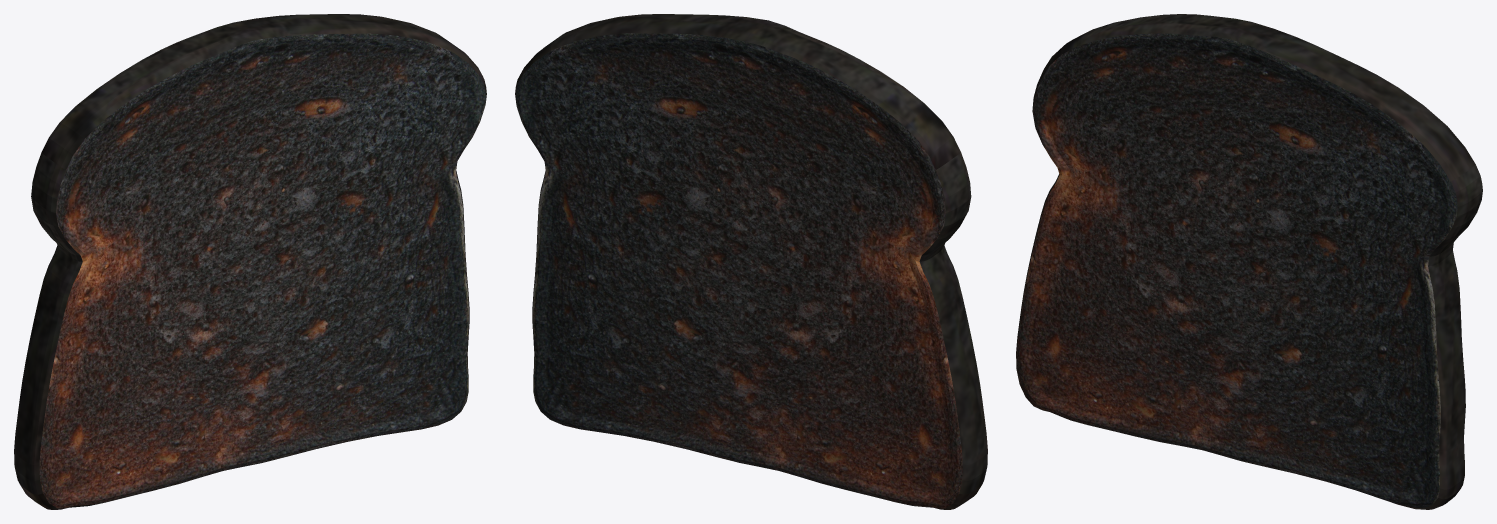
File: BurntToast.fbx
The picture shows the model from 3 angles, left to right: view 1: azimuth 30°, elevation 25°; view 2: azimuth 150°, elevation 25°; view 3: azimuth 330°, elevation 25°; orthographic projection.
Visible parts, largest first — view 1: Plane; view 2: Plane; view 3: Plane.
Part boxes in pixels (box(x1,y1,x2,y2)): Plane: box(14, 14, 486, 509); Plane: box(515, 14, 987, 509); Plane: box(1016, 14, 1482, 509).
Size of the model in its own units: 311 by 286 by 30.66.
Materials: 1 (1 with a texture image).
